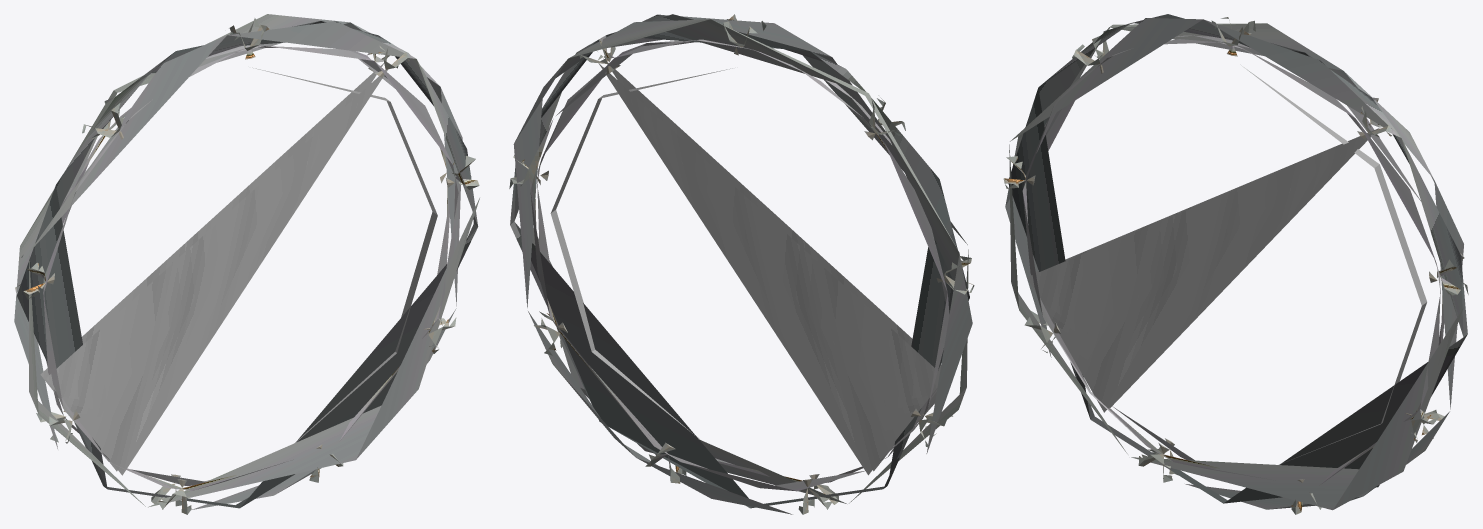
3 renders of one model, left to right at view 1: azimuth 30°, elevation 25°; view 2: azimuth 150°, elevation 25°; view 3: azimuth 330°, elevation 25°, orthographic.
Parts seen in each view (by area): view 1: Object_2; view 2: Object_2; view 3: Object_2.
Boxes of the visible parts, x1,y1,x2,y2 form: Object_2: (14, 14, 479, 514); Object_2: (509, 14, 974, 514); Object_2: (1003, 14, 1468, 514).
Size of the model in its own units: 259 by 257 by 11.48.
Materials: 1 (1 with a texture image).
